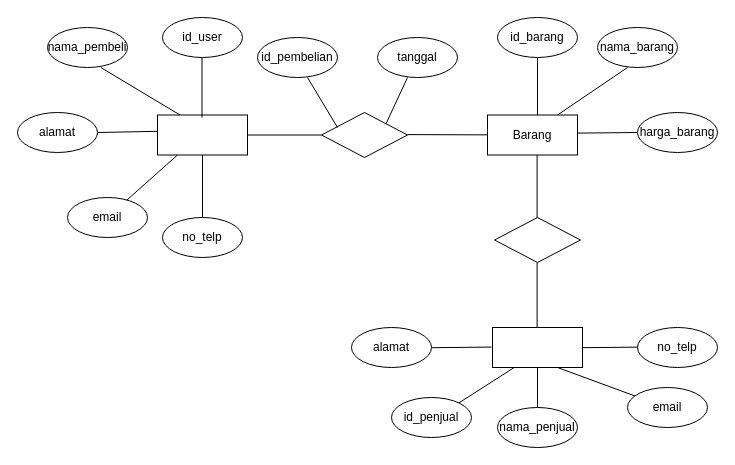
Some shapes in this 735 by 465 pixel diagram are drawn without their labels. The box of each missing label's shape, as (x1, y1, x2, y2) in pixels:
membeli: (320, 112, 408, 158)
menjual: (494, 216, 580, 262)
Penjual: (492, 326, 582, 368)
user: (156, 114, 248, 155)
